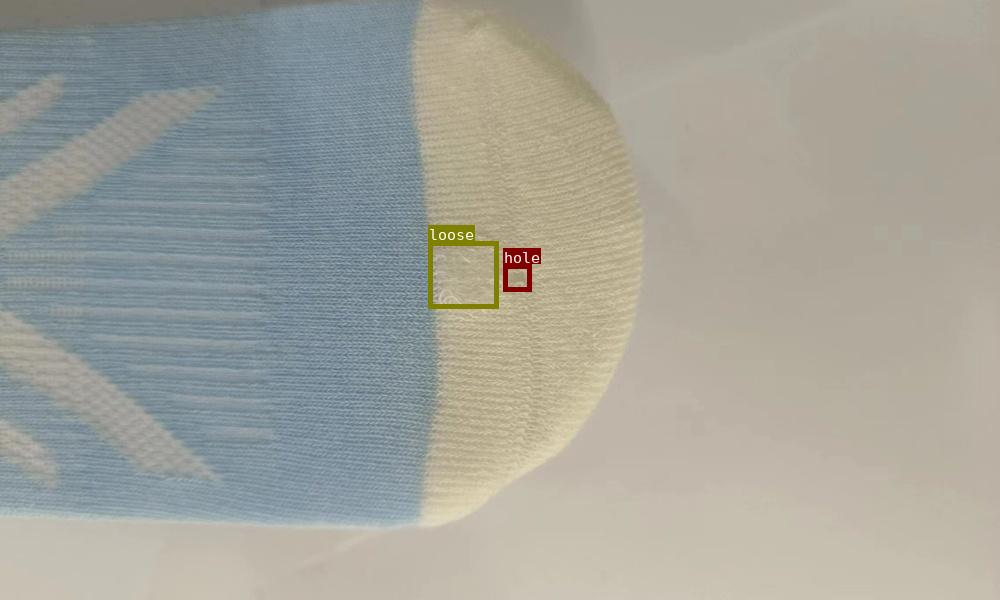hole: (503, 264, 531, 291)
loose: (428, 241, 498, 308)
